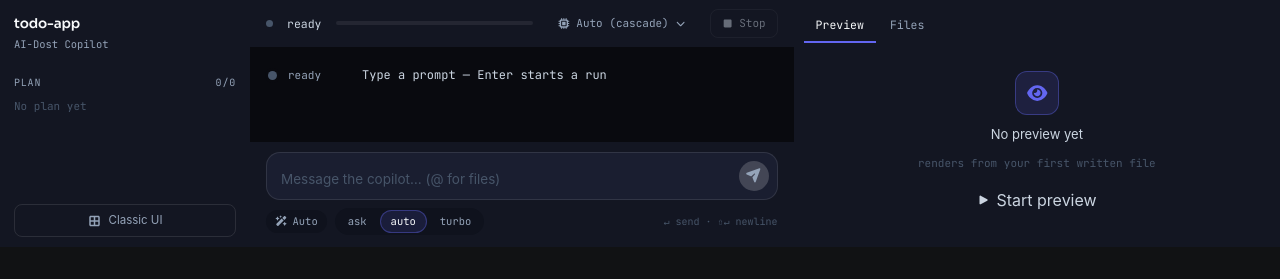
Test case: CopilotAurora (P11 A2 — real run wiring) › no auto-start when the run wrote nothing
In the text box with test id "aurora-composer-input": coordinates (506, 180) [281,168,731,190], type "just talk"
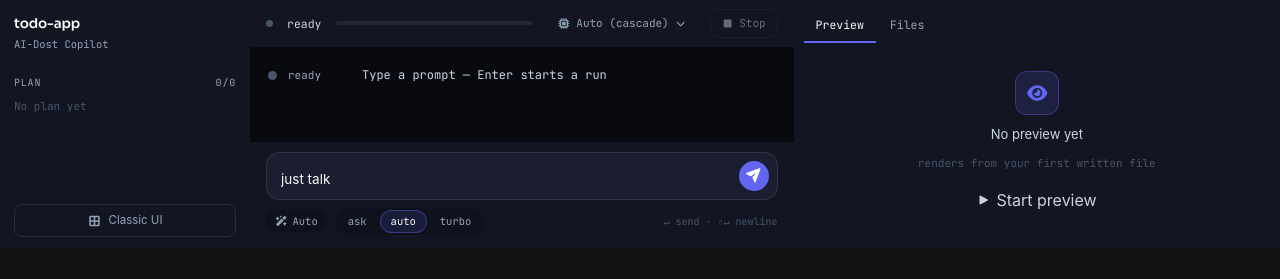
Press Enter in the text box with test id "aurora-composer-input", box [281,168,731,190]
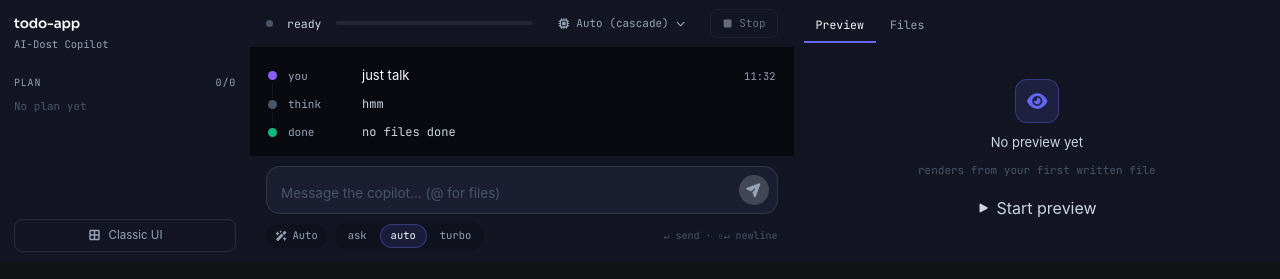
Expected: the text "no files done" is shown, [362,124,456,140]
